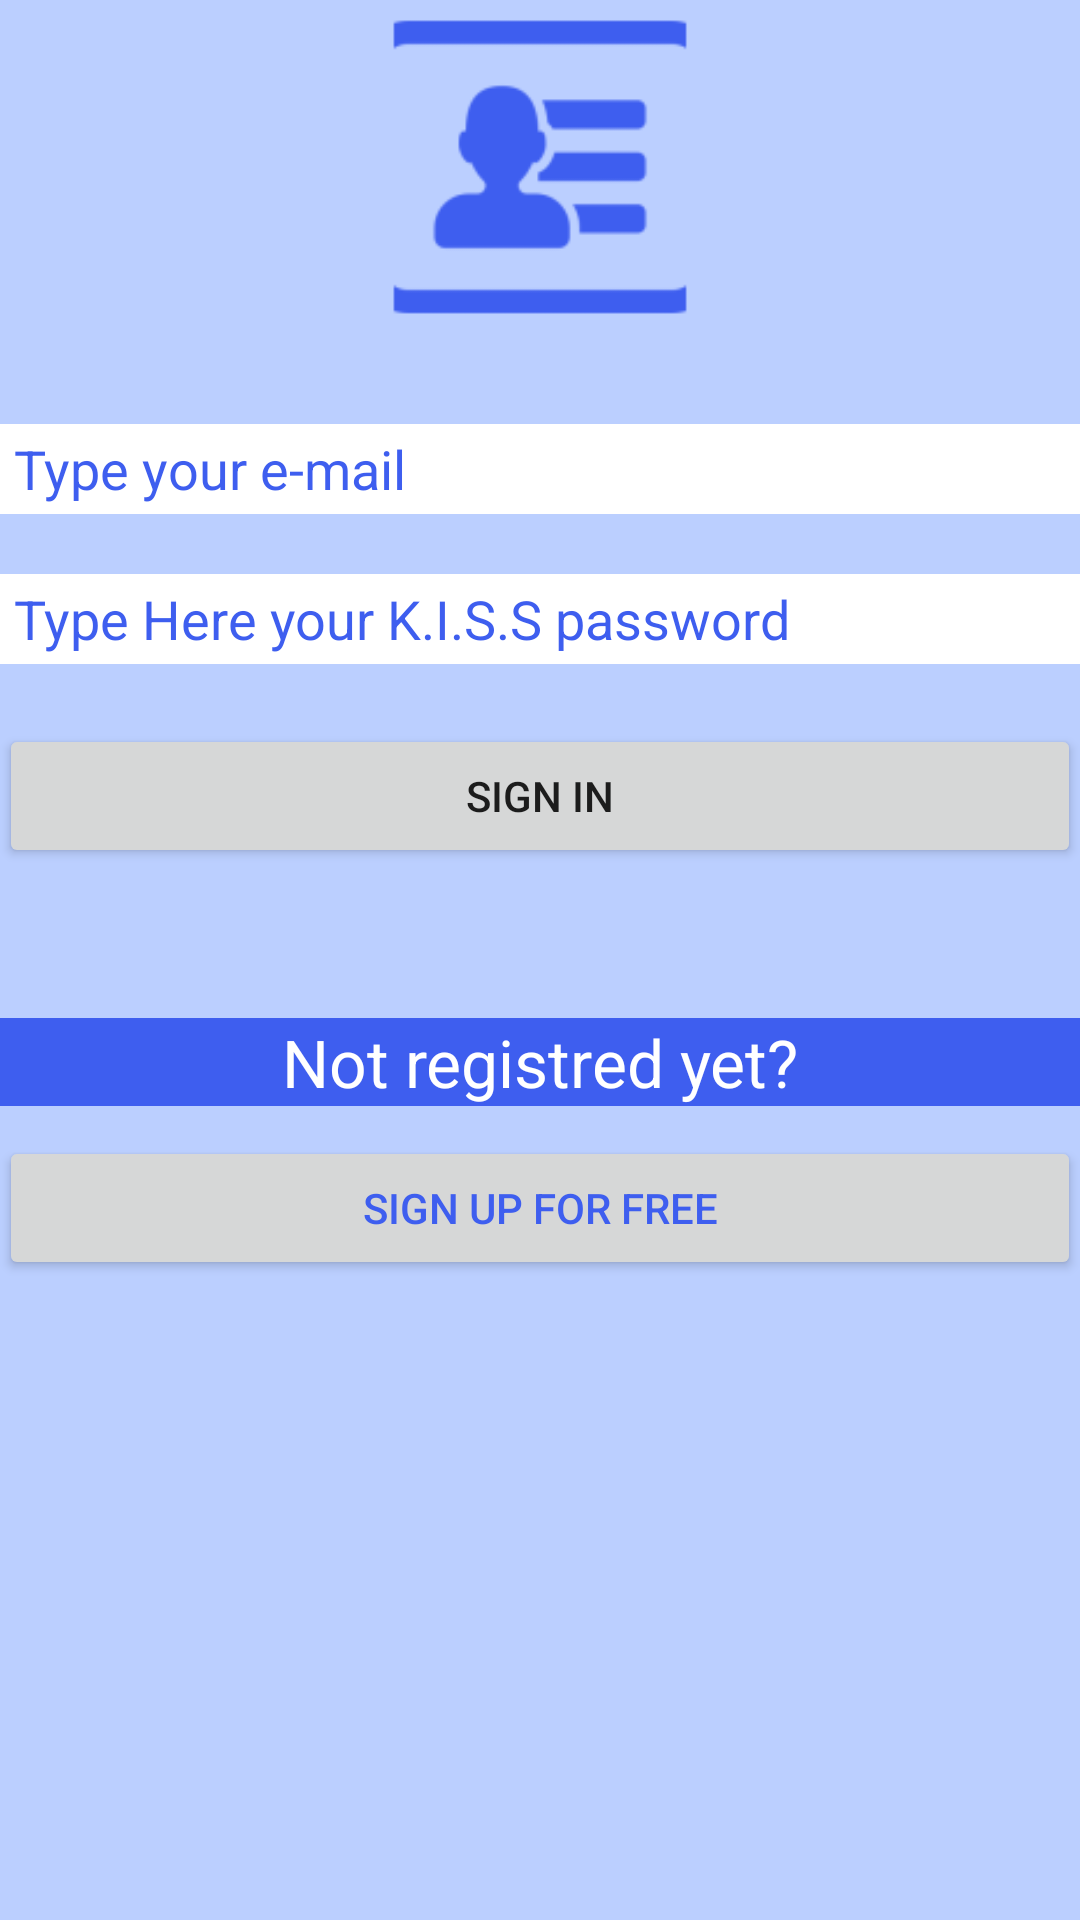

Point at icon controls on the screen. Image size 1080 × 1920, points as (x=x, y=y).
perfil: (x=540, y=167)
